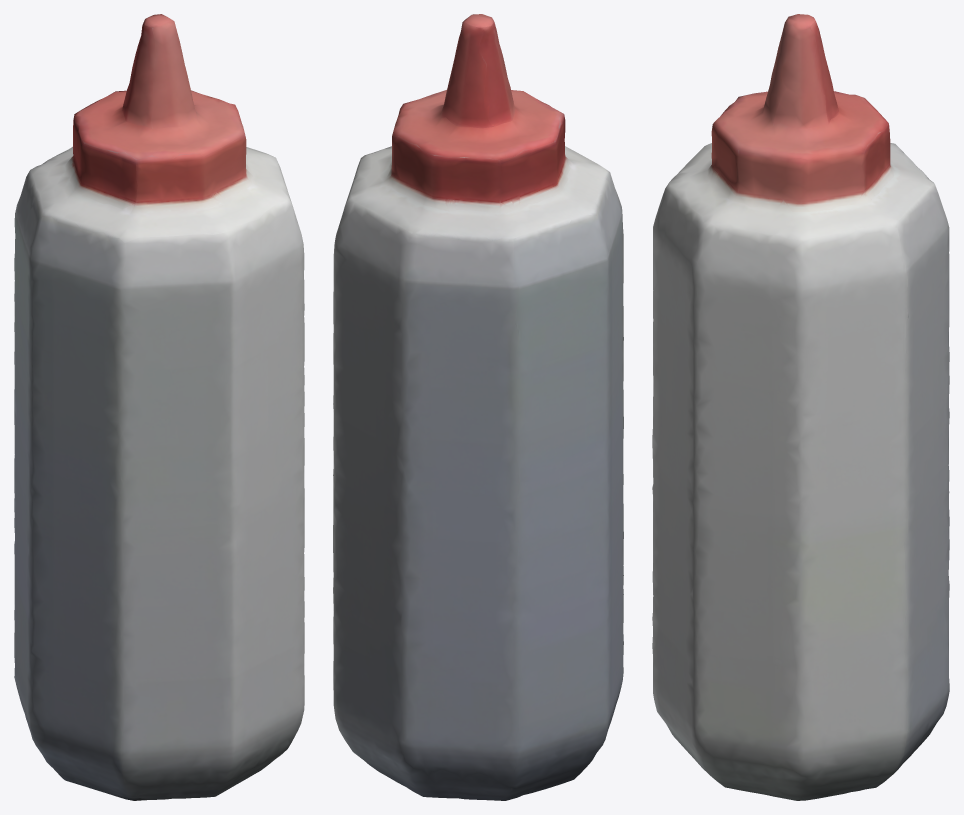
Rendered from sauce_bottle.glb.
The picture shows the model from 3 angles, left to right: view 1: azimuth 30°, elevation 25°; view 2: azimuth 150°, elevation 25°; view 3: azimuth 270°, elevation 25°; orthographic projection.
Visible parts, largest first — view 1: SqueezeBottle; view 2: SqueezeBottle; view 3: SqueezeBottle.
Boxes of the visible parts, box(x1,y1,x2,y2) form: SqueezeBottle: box(14, 14, 304, 800); SqueezeBottle: box(333, 14, 623, 800); SqueezeBottle: box(652, 14, 949, 800).
Bounding box in the file's own units: 0.0645 × 0.18 × 0.0645.
Materials: 1 (1 with a texture image).
